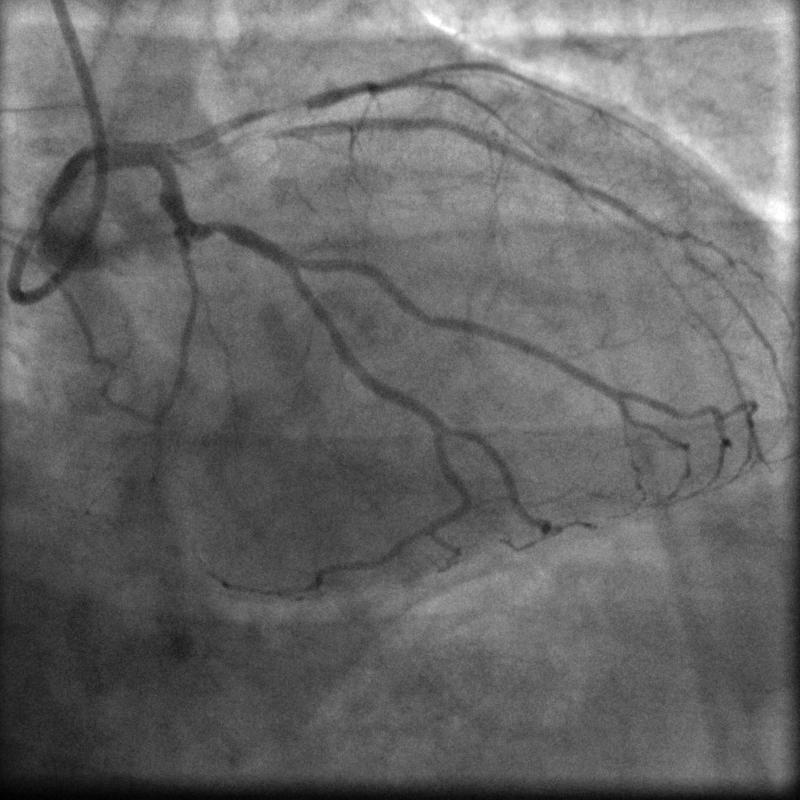Stenosis: (199, 218, 237, 239)
